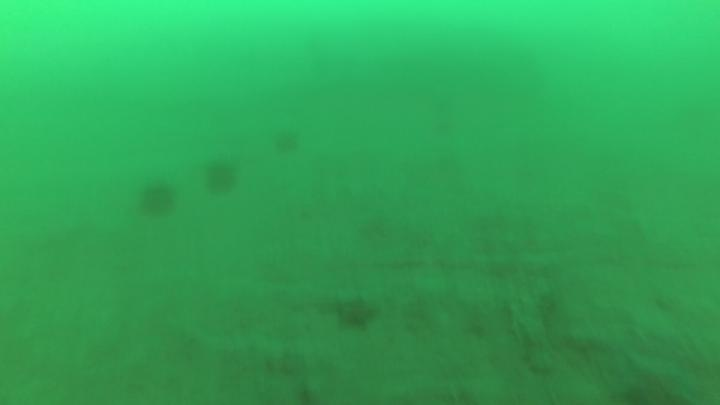echinus: (136, 178, 180, 221), (201, 157, 241, 199), (270, 125, 303, 156)
holothurian: (507, 286, 559, 377)
starfish: (330, 290, 381, 333)
